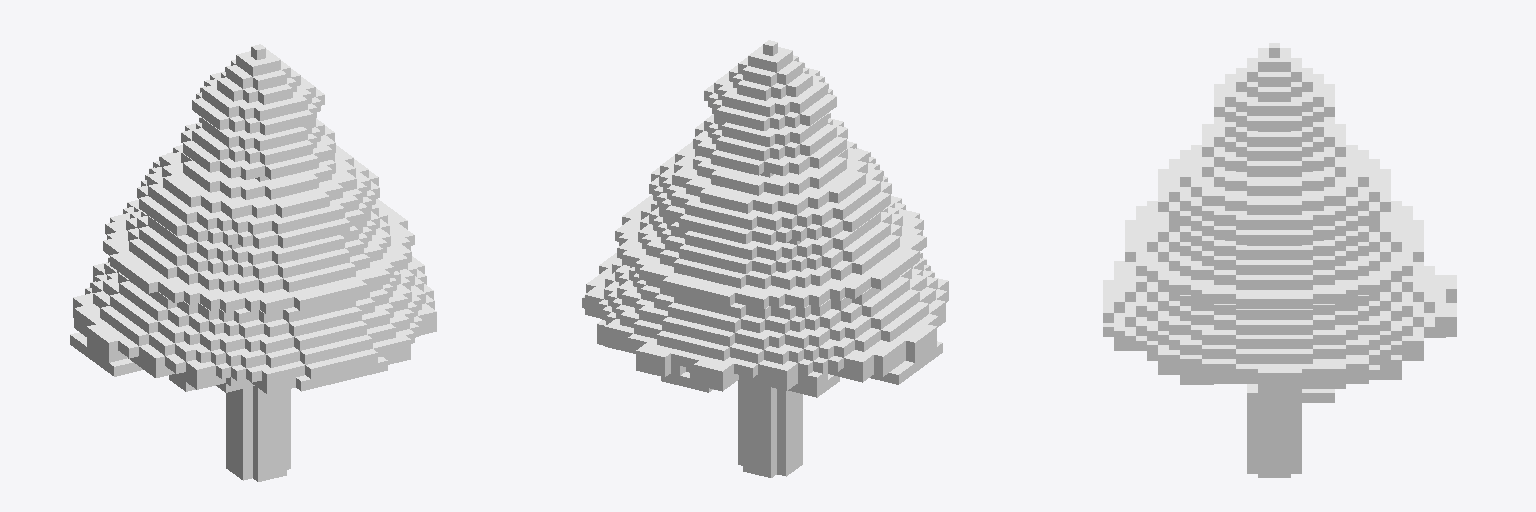
The model's file is gglive_tree1.obj.
The picture shows the model from 3 angles: view 1: azimuth 30°, elevation 25°; view 2: azimuth 150°, elevation 25°; view 3: azimuth 270°, elevation 25°; orthographic projection.
Parts seen in each view (by area): view 1: gglive_tree1; view 2: gglive_tree1; view 3: gglive_tree1.
Boxes of the visible parts, box(x1,y1,x2,y2) form: gglive_tree1: box(70, 44, 436, 481); gglive_tree1: box(582, 40, 948, 477); gglive_tree1: box(1103, 43, 1456, 477).
Size of the model in its own units: 33 by 42 by 32.